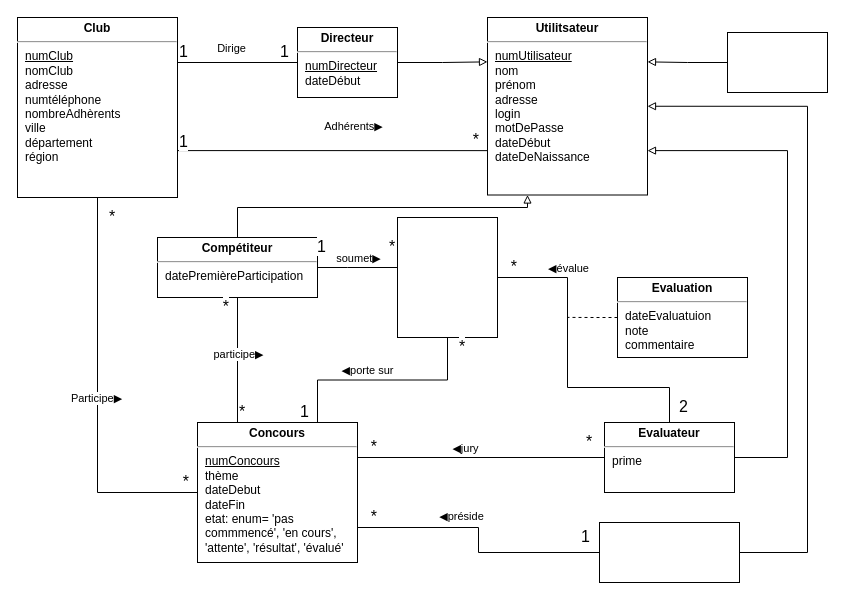
Image size: 845x600. Some labels were removed from this diagram. The shapes that lost their labels are listed below. From the top down, each one's centre as x and y in pixels, then its label:
At [777,62]: "Administrateur dateDébut".
At [447,277]: "Dessin numDessin commentaire classement dateRemise leDessin".
At [669,552]: "Président prime dateDebut".
